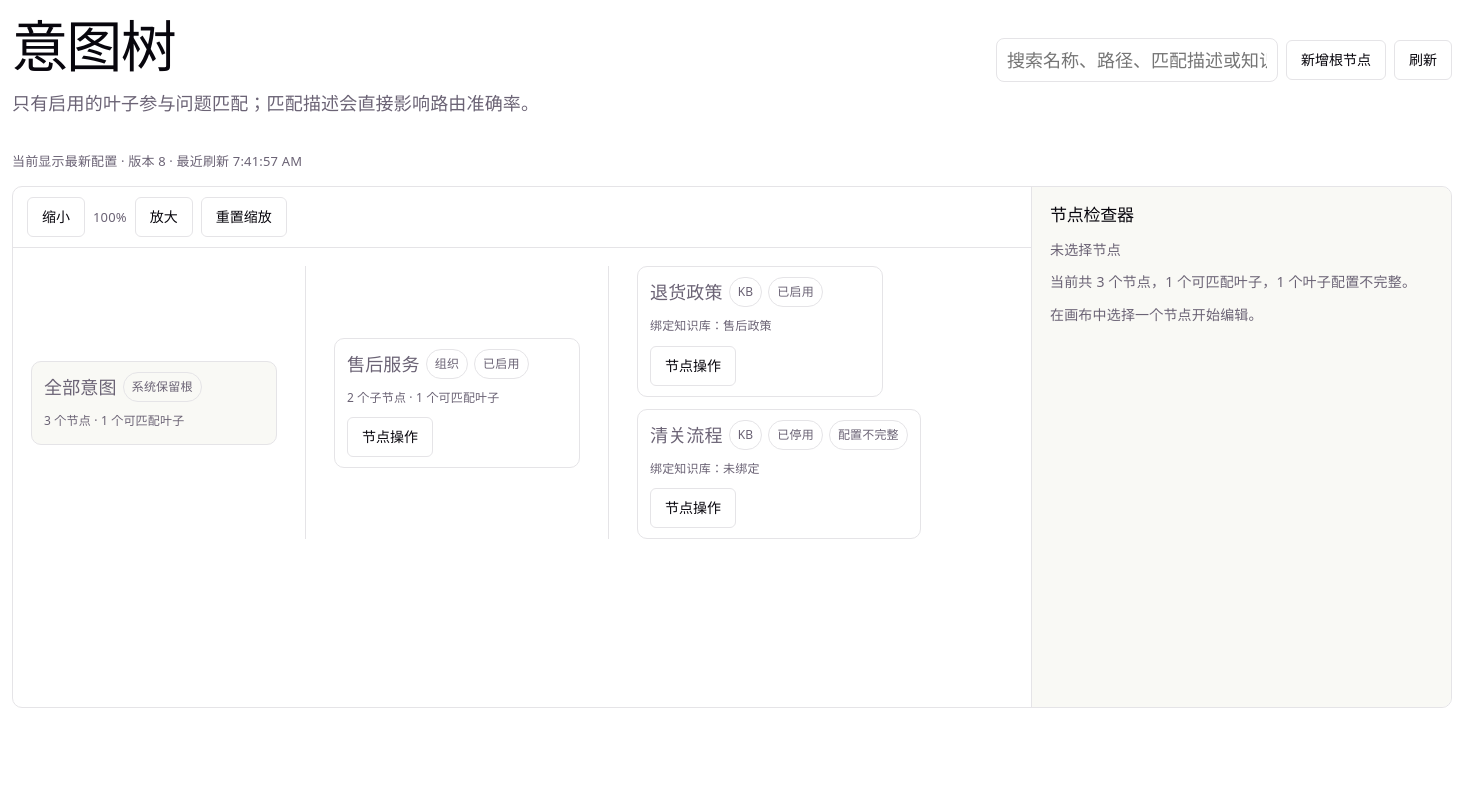
Test case: 意图树 C — 搜索、键盘与响应式 › 搜索保留祖先路径，无结果时提供清除搜索
This screenshot has width=1464, height=810.
Check: the list item "售后服务" is shown, box [334,266,921,539]
Type "退货" into the field named "搜索节点".
click(1137, 60); type("退货")  # box [996,38,1278,82]
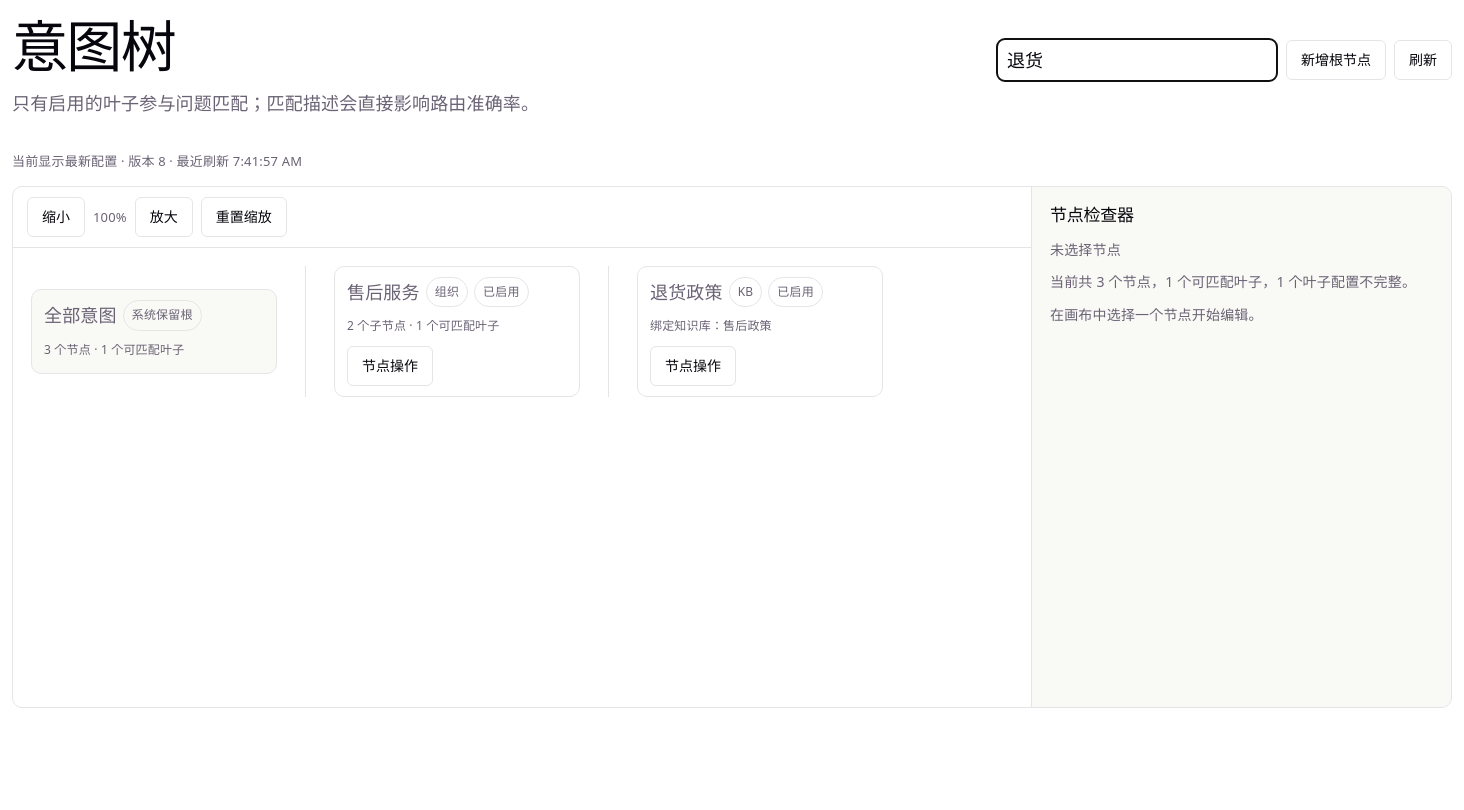
Check: the list item "售后服务" is shown, box [334,266,883,397]
Check: the text "清关流程" is gone
Replace the text in the field named "搜索节点" with "不存在的关键词" at [1137, 60], box [996,38,1278,82]
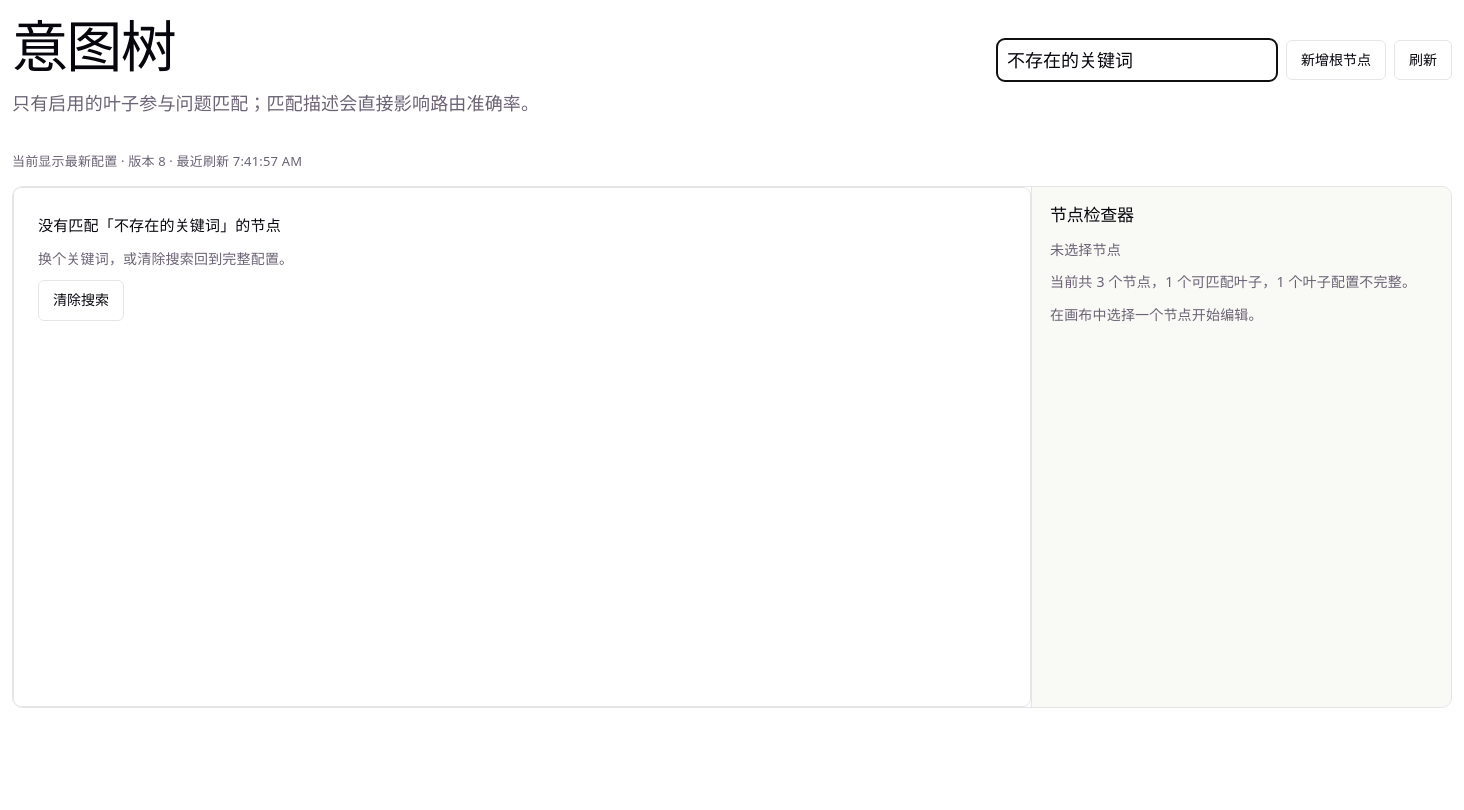
Check: the text "没有匹配「不存在的关键词」的节点" is shown, box [38,212,281,238]
Click the button "清除搜索".
click(81, 301)  # box [38,280,124,321]
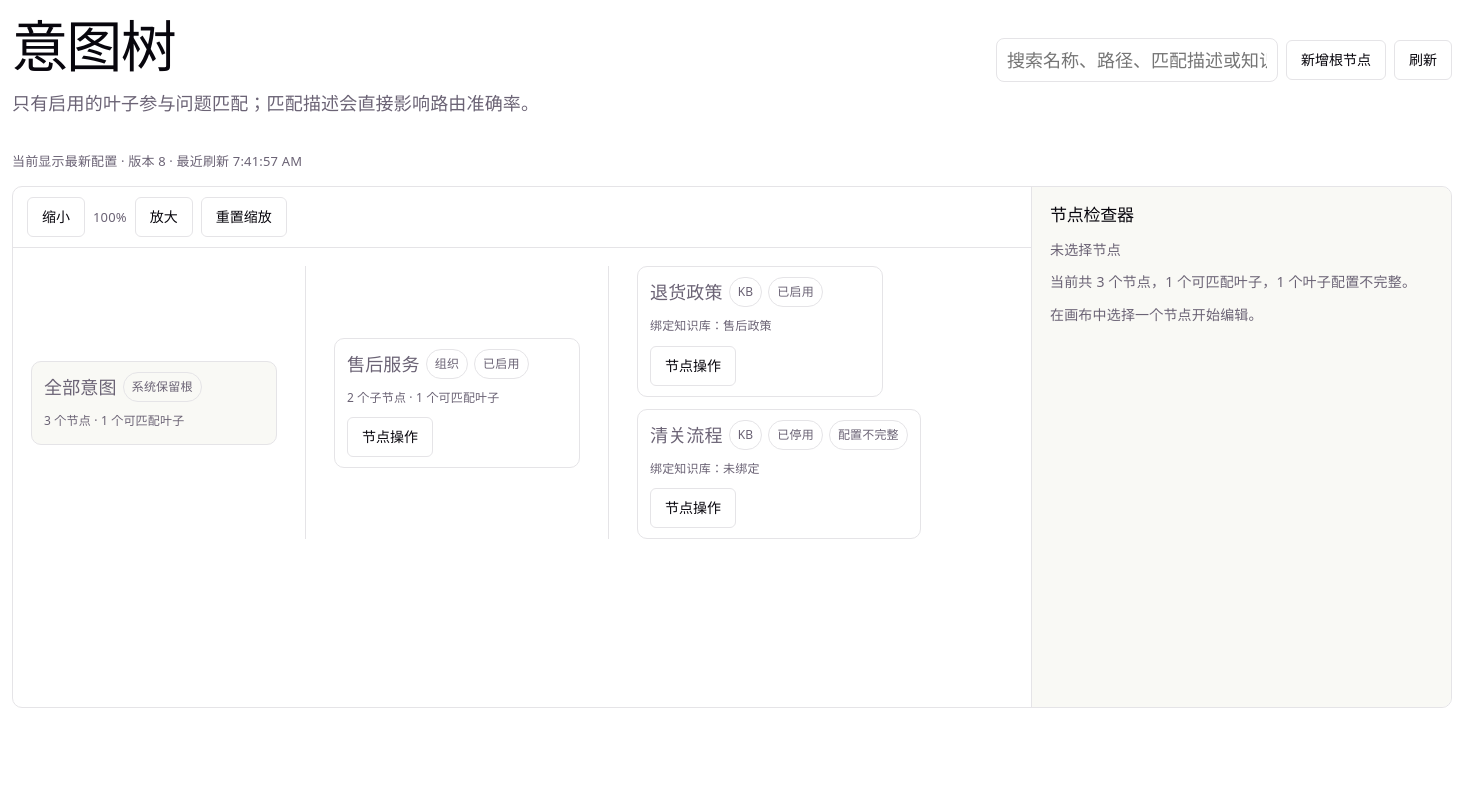
Check: the list item "清关流程 KB 已停用 配置不完整 绑定知识库：未绑定 节点操作" is shown, box [637,409,921,539]
